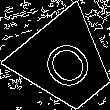O_SE: (32, 30, 99, 97)
